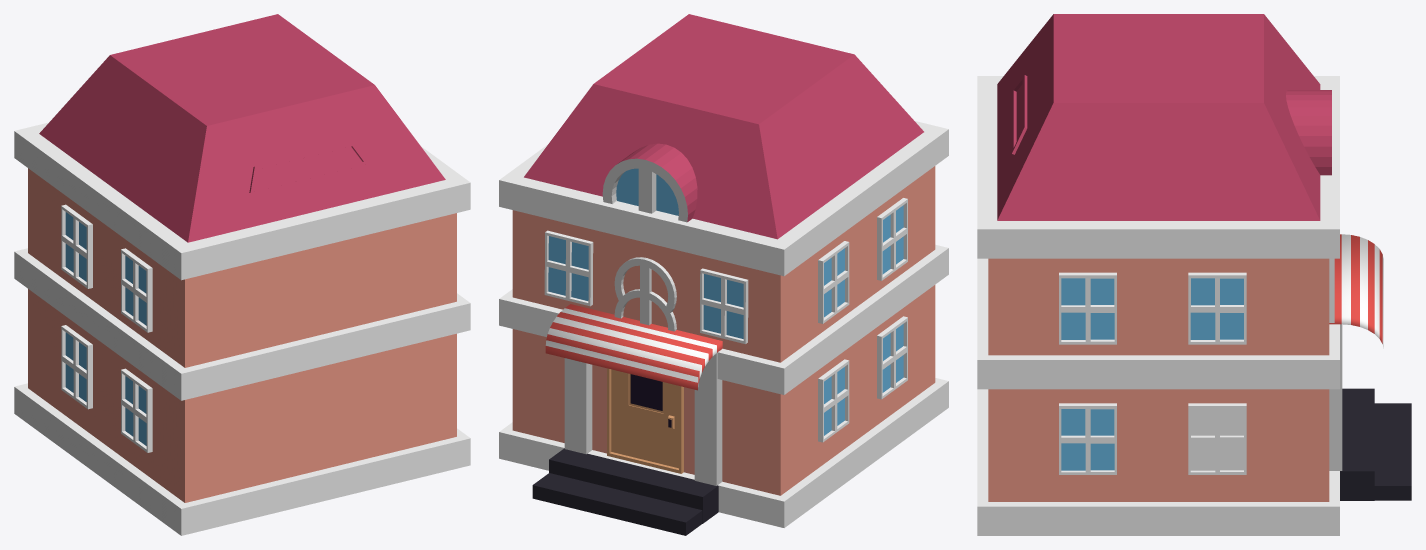
Rendered from uploads_files_4810820_HOUSE_V1.fbx.
3 views of the same model, side by side, from view 1: azimuth 30°, elevation 25°; view 2: azimuth 150°, elevation 25°; view 3: azimuth 270°, elevation 25° (orthographic). The views are drawn at different scales.
Parts seen in each view (by area): view 1: Cube.004, Cube, Cube.001, Cube.003, Cube.002, Cube.012, Cube.006, Cube.007, Cube.011, Cube.010; view 2: Cube.004, Cube, Cube.001, Cube.003, Cube.012, Cube.002, Plane, Cube.005, Circle, Cube.017, Cube.018, Cube.008 (+9 smaller); view 3: Cube.004, Cube, Cube.001, Cube.003, Cube.002, Cube.012, Plane, Cube.014, Cube.016, Cube.013, Cube.015, Cube.017 (+3 smaller).
Boxes of the visible parts, box(x1,y1,x2,y2) form: Cube.004: box(39, 14, 445, 242); Cube: box(28, 289, 456, 502); Cube.001: box(28, 168, 456, 367); Cube.003: box(14, 122, 470, 280); Cube.002: box(14, 248, 470, 400); Cube.012: box(14, 383, 470, 535); Cube.006: box(61, 204, 92, 288); Cube.007: box(121, 248, 152, 332); Cube.011: box(121, 368, 152, 452); Cube.010: box(61, 325, 92, 409); Cube.004: box(524, 14, 923, 239); Cube: box(512, 285, 935, 495); Cube.001: box(512, 166, 935, 362); Cube.003: box(499, 121, 948, 276); Cube.012: box(499, 378, 948, 527); Cube.002: box(499, 244, 948, 394); Plane: box(545, 304, 722, 390); Cube.005: box(607, 368, 683, 473); Circle: box(602, 143, 697, 222); Cube.017: box(549, 448, 718, 523); Cube.018: box(532, 473, 702, 535); Cube.008: box(694, 352, 722, 485); Cube.004: box(997, 14, 1320, 220); Cube: box(988, 389, 1329, 501); Cube.001: box(988, 258, 1329, 355); Cube.003: box(977, 76, 1339, 258); Cube.002: box(977, 258, 1339, 389); Cube.012: box(977, 389, 1339, 535); Plane: box(1329, 234, 1383, 348); Cube.014: box(1188, 272, 1246, 344); Cube.016: box(1188, 403, 1246, 474); Cube.013: box(1059, 272, 1116, 344); Cube.015: box(1059, 403, 1116, 474); Cube.017: box(1340, 388, 1374, 500).
Bounding box in the file's own units: 213 × 260 × 255.
